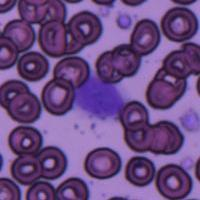L: (73, 75, 126, 121)
